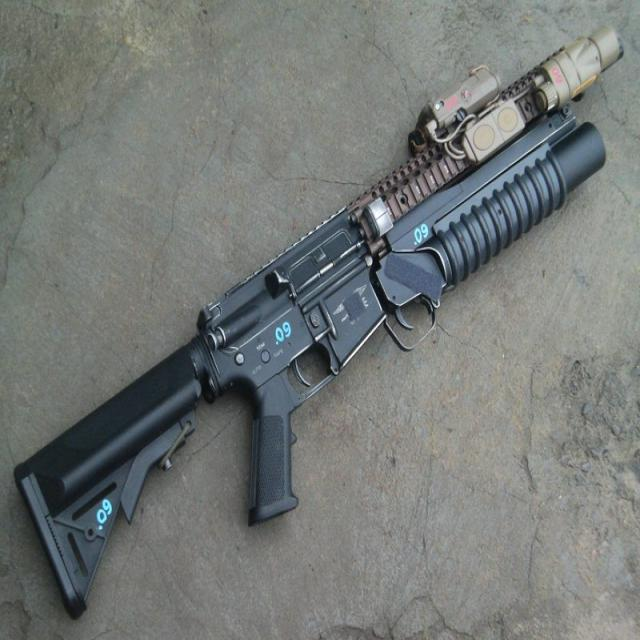firearm: (12, 20, 626, 624)
rocket: (374, 103, 607, 354)
